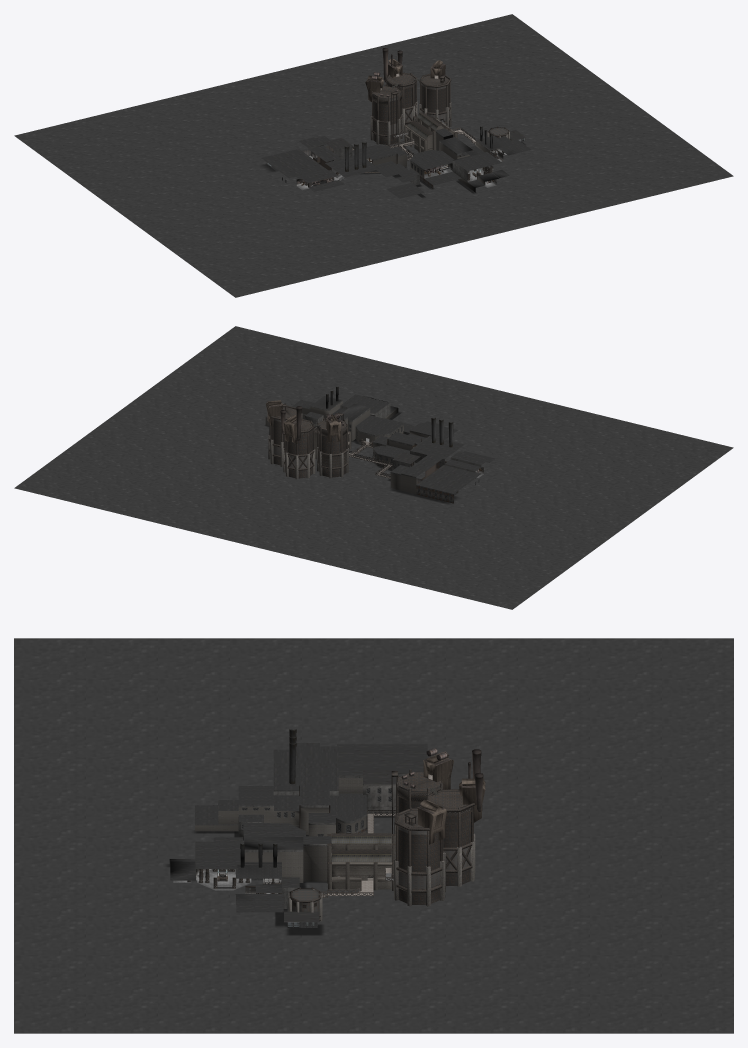
File: sellbot_factory.glb
3 views of the same model, one above another, from view 1: azimuth 30°, elevation 25°; view 2: azimuth 150°, elevation 25°; view 3: azimuth 270°, elevation 25° (orthographic). The views are drawn at different scales.
Parts seen in each view (by area): view 1: room, Roof, Factory, Walls (×2); view 2: room, Roof, Factory, building, TowerWalls, Walls, wall1Hero; view 3: room, Roof, Factory, Walls (×2), wall1Hero, TowerWalls, Entrance22, Factory1, shack, Posts1, RoomExterior, Entrace1.
Boxes of the visible parts, box(x1,y1,x2,y2) form: room: box(14, 14, 733, 297); Roof: box(261, 136, 424, 198); Factory: box(410, 130, 531, 192); Walls (×2): box(373, 80, 449, 144); room: box(14, 326, 733, 609); Roof: box(373, 421, 494, 493); Factory: box(265, 394, 413, 445); building: box(390, 472, 453, 503); TowerWalls: box(285, 431, 312, 478); Walls: box(318, 426, 346, 477); wall1Hero: box(373, 430, 444, 469); room: box(14, 638, 733, 1033); Roof: box(195, 743, 427, 825); Factory: box(169, 823, 319, 922); Walls (×2): box(331, 822, 440, 904); wall1Hero: box(195, 791, 366, 837); TowerWalls: box(443, 808, 470, 885); Entrance22: box(363, 770, 395, 815); Factory1: box(303, 836, 331, 881); shack: box(417, 800, 446, 844); Posts1: box(327, 834, 395, 890); RoomExterior: box(423, 751, 453, 789); Entrace1: box(308, 812, 335, 842).
Size of what is drawn, in the model's own units: 2330 by 367 by 1794.
144 materials, 143 textured.
